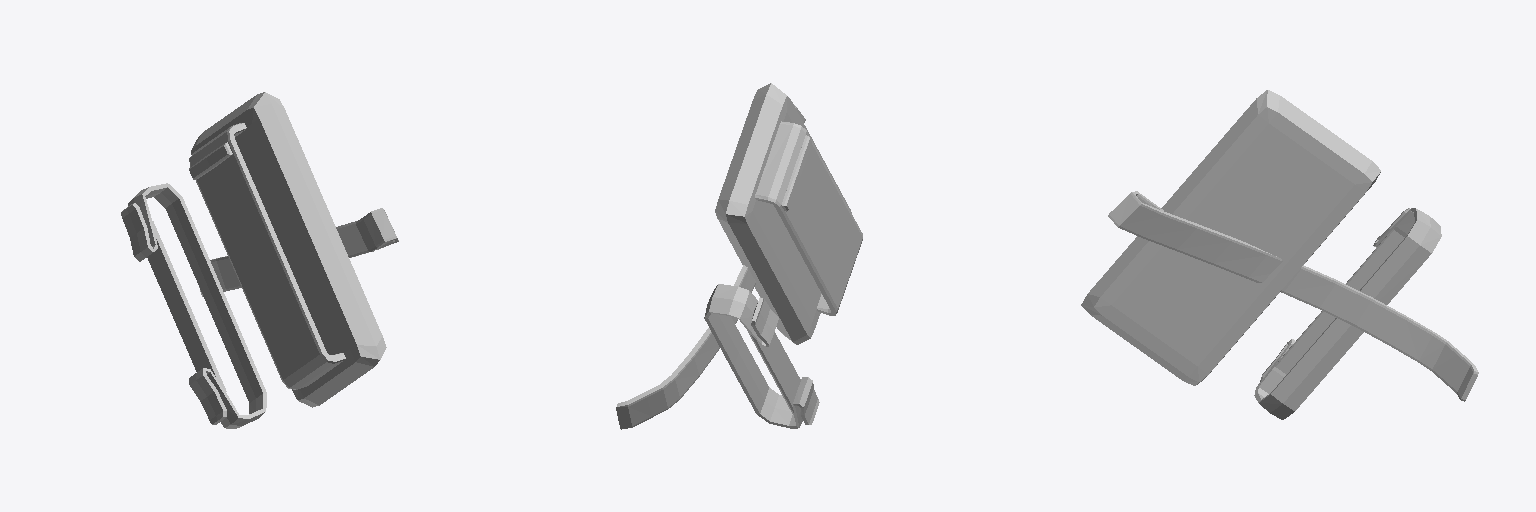
File: Ethan_Harness.obj
The picture shows the model from 3 angles: view 1: azimuth 30°, elevation 25°; view 2: azimuth 150°, elevation 25°; view 3: azimuth 270°, elevation 25°; orthographic projection.
Parts seen in each view (by area): view 1: char_ethan_harness_Untitled.002; view 2: char_ethan_harness_Untitled.002; view 3: char_ethan_harness_Untitled.002.
Part boxes in pixels (x1,y1,x2,y2): char_ethan_harness_Untitled.002: (121,92,398,428); char_ethan_harness_Untitled.002: (616,83,862,429); char_ethan_harness_Untitled.002: (1081,90,1478,419).
Bounding box in the file's own units: 11.77 × 30.49 × 32.78.